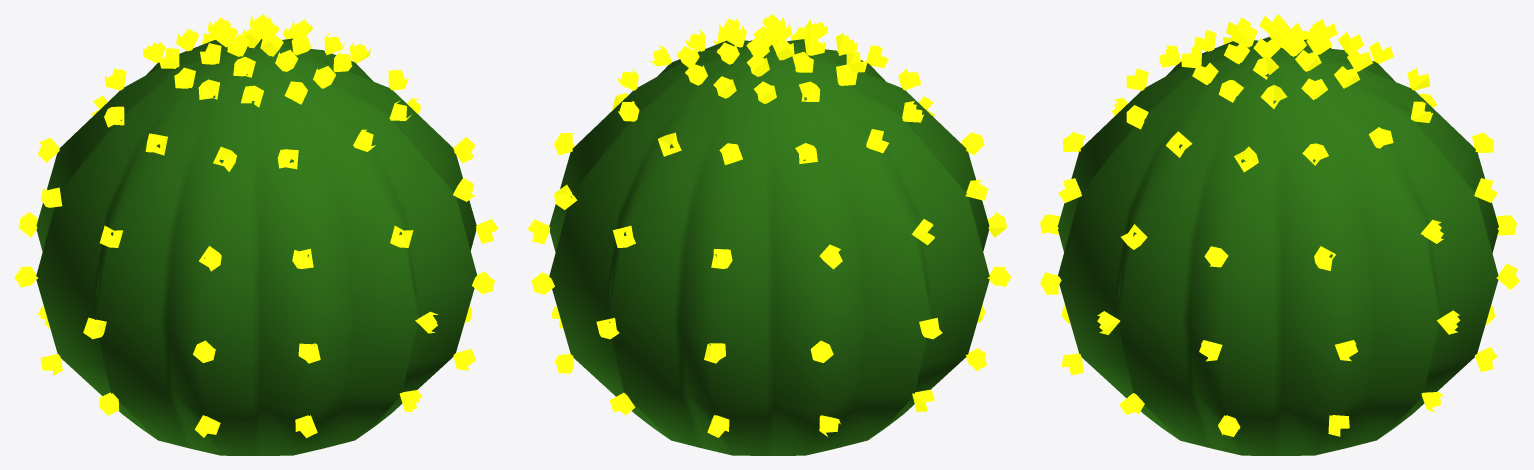
File: cactusball03.fbx
3 renders of one model, left to right at view 1: azimuth 30°, elevation 25°; view 2: azimuth 150°, elevation 25°; view 3: azimuth 270°, elevation 25°, orthographic.
Visible parts, largest first — view 1: Sphere; view 2: Sphere; view 3: Sphere.
Part boxes in pixels (left/top/right/bottom): Sphere: left=14, top=14, right=498, bottom=455; Sphere: left=527, top=14, right=1011, bottom=455; Sphere: left=1040, top=14, right=1519, bottom=455.
Bounding box in the file's own units: 54.09 × 45.54 × 54.45.
